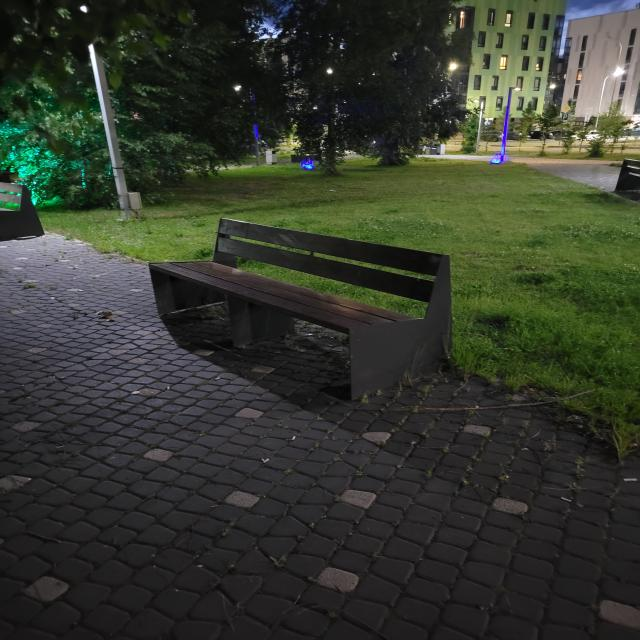Bench: (150, 218, 452, 400)
